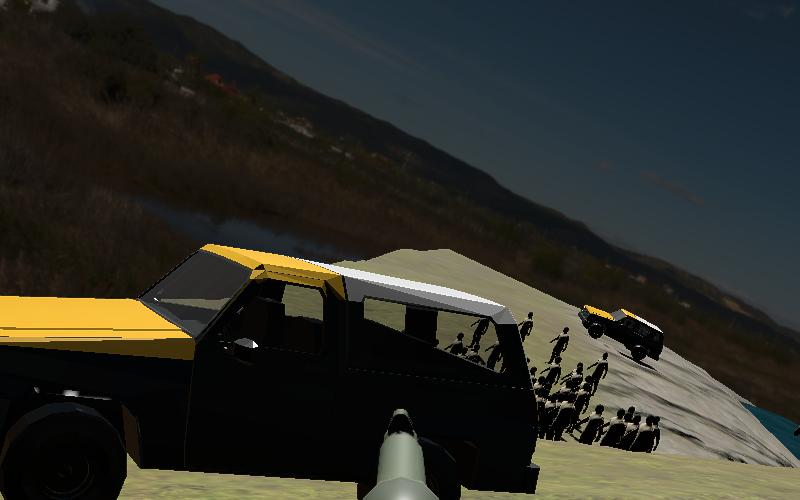car: (3, 243, 543, 490), (579, 304, 665, 361), (578, 300, 614, 340)
